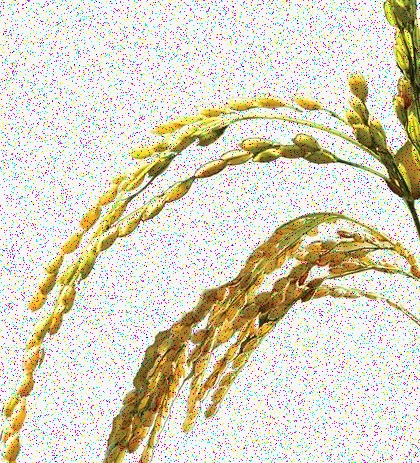rice: (2, 67, 411, 460)
